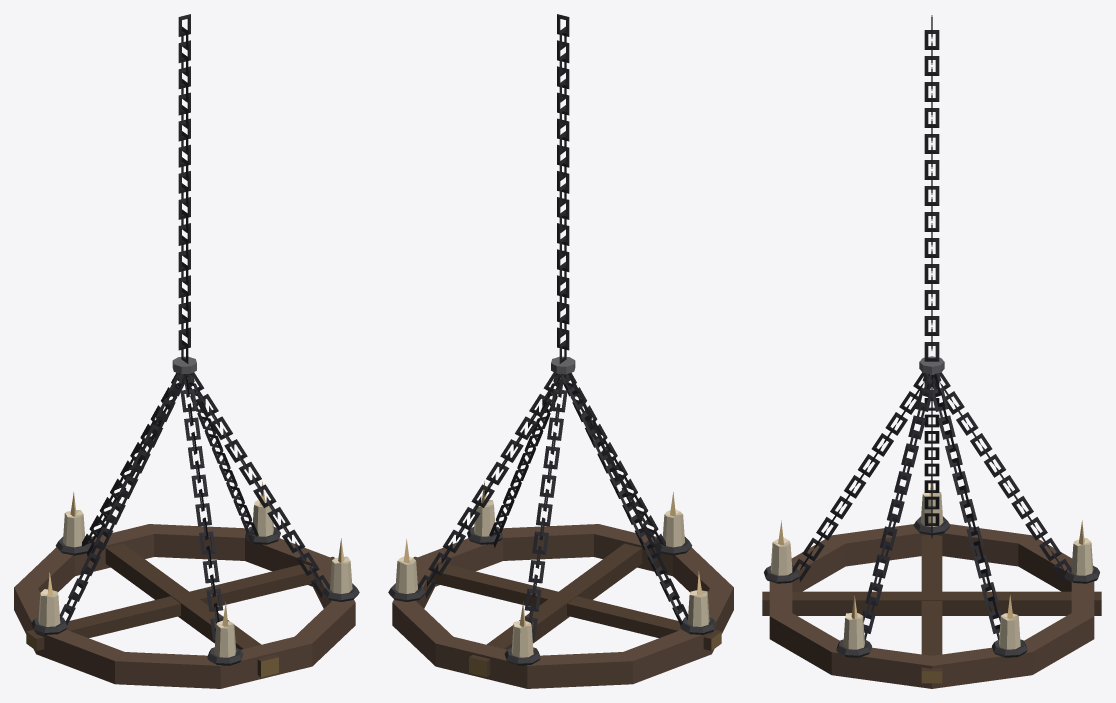
The model's file is Chandelier_3.fbx.
The picture shows the model from 3 angles, left to right: view 1: azimuth 30°, elevation 25°; view 2: azimuth 150°, elevation 25°; view 3: azimuth 270°, elevation 25°; orthographic projection.
Visible parts, largest first — view 1: polySurface2515; view 2: polySurface2515; view 3: polySurface2515.
Part boxes in pixels (box(x1,y1,x2,y2)): polySurface2515: box(14, 14, 359, 688); polySurface2515: box(388, 14, 733, 688); polySurface2515: box(762, 15, 1101, 688).
Bounding box in the file's own units: 165 × 310 × 159.
